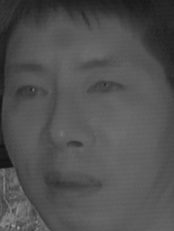eye: (85, 77, 128, 101), (12, 82, 47, 104)
mouth: (43, 162, 101, 204)
